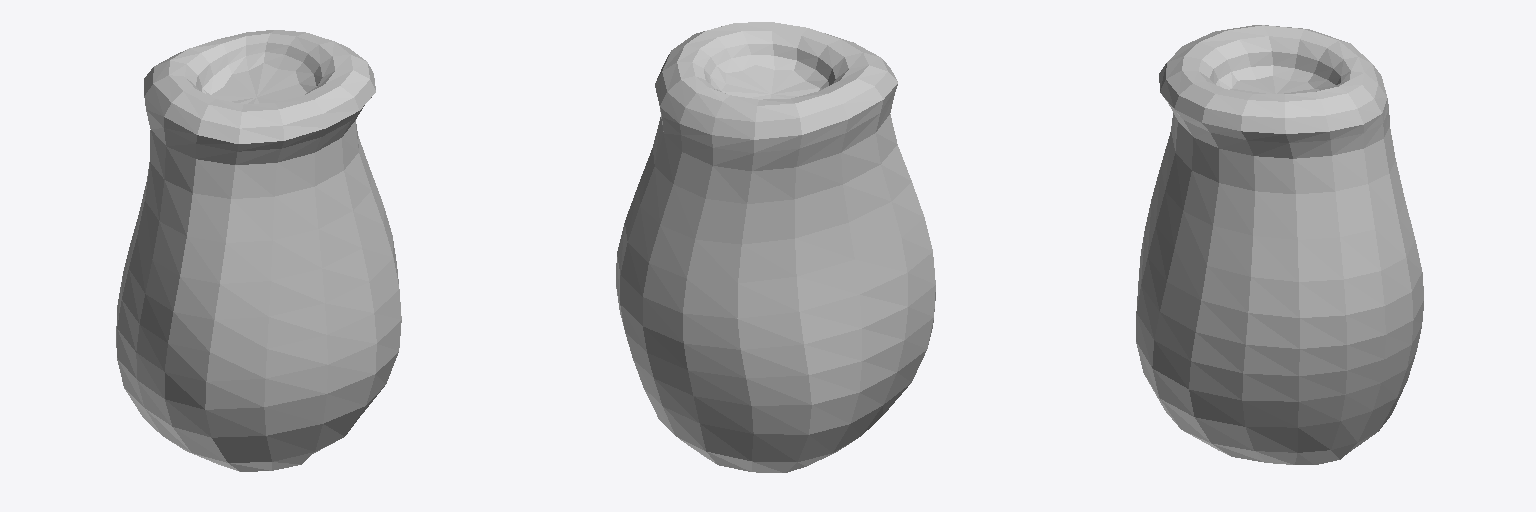
File: Sponge_B_01_LOD0.obj
The picture shows the model from 3 angles: view 1: azimuth 30°, elevation 25°; view 2: azimuth 150°, elevation 25°; view 3: azimuth 270°, elevation 25°; orthographic projection.
Visible parts, largest first — view 1: Sponge_B_01_LOD0_Cylinder.329; view 2: Sponge_B_01_LOD0_Cylinder.329; view 3: Sponge_B_01_LOD0_Cylinder.329.
Boxes of the visible parts, x1,y1,x2,y2 form: Sponge_B_01_LOD0_Cylinder.329: [116, 30, 401, 471]; Sponge_B_01_LOD0_Cylinder.329: [616, 22, 935, 472]; Sponge_B_01_LOD0_Cylinder.329: [1136, 25, 1423, 464].
Size of the model in its own units: 2.52 by 3.63 by 2.45.